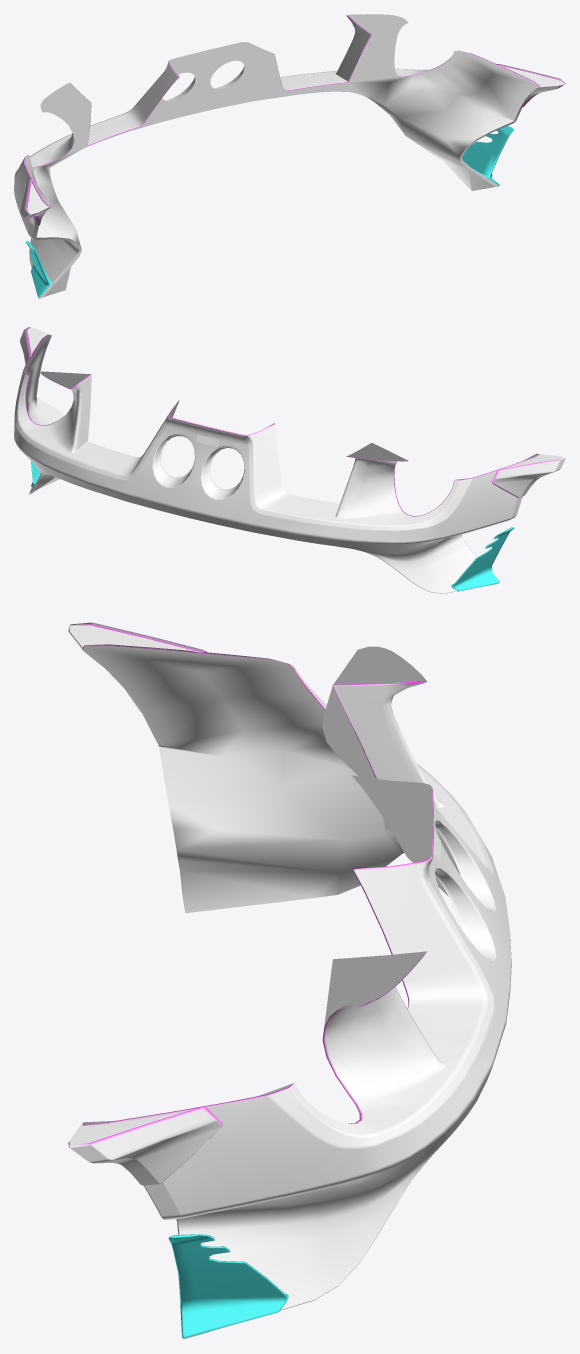
The model's file is Car_Ford_GT_2017_BumperR_SetB_AltA.fbx.
3 views of the same model, one above another, from view 1: azimuth 30°, elevation 25°; view 2: azimuth 150°, elevation 25°; view 3: azimuth 270°, elevation 25° (orthographic). The views are drawn at different scales.
Parts seen in each view (by area): view 1: BumperR 6; view 2: BumperR 6; view 3: BumperR 6.
Boxes of the visible parts, left/top/right/bottom form: BumperR 6: left=14, top=14, right=565, bottom=298; BumperR 6: left=14, top=327, right=565, bottom=593; BumperR 6: left=68, top=622, right=511, bottom=1339.
Bounding box in the file's own units: 2.17 × 0.5781 × 0.7764.
